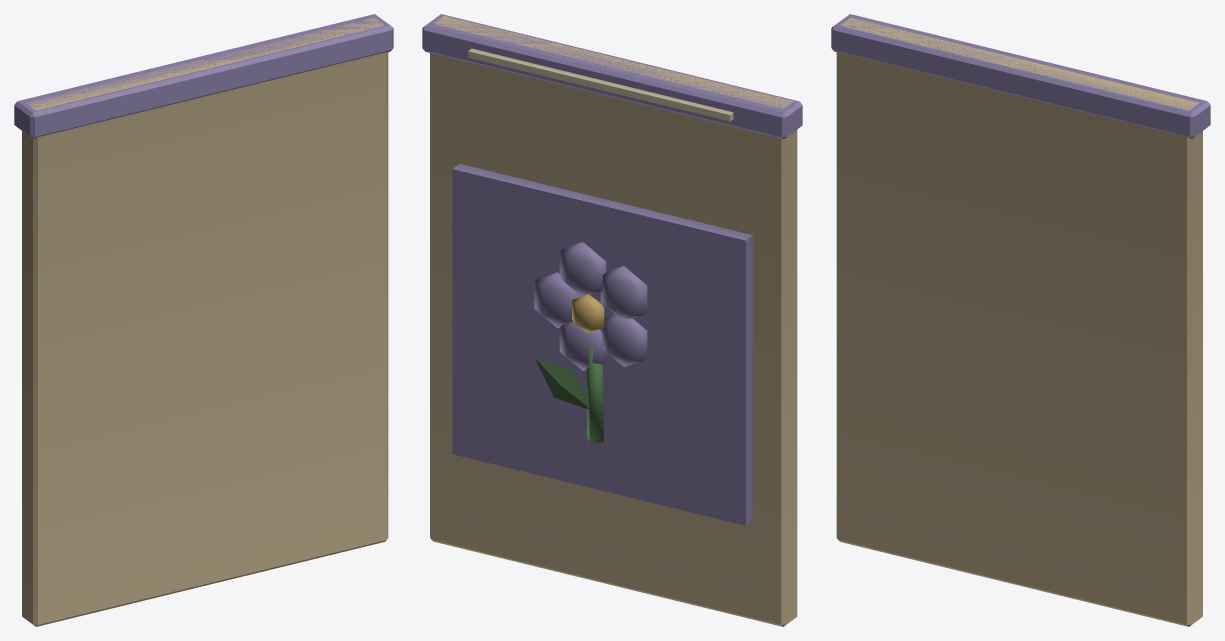
File: seed_flower_purple_low.glb
3 views of the same model, side by side, from view 1: azimuth 30°, elevation 25°; view 2: azimuth 150°, elevation 25°; view 3: azimuth 330°, elevation 25° (orthographic).
Size of the model in its own units: 0.174 by 0.236 by 0.0318.
